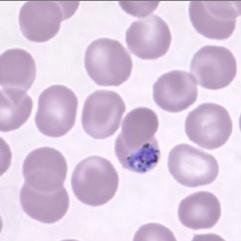Infected: (130, 79, 173, 124)
Uninfected: (155, 122, 205, 169), (84, 162, 136, 207), (38, 108, 86, 156), (102, 8, 149, 55), (143, 22, 186, 72), (90, 116, 138, 160), (147, 173, 193, 218), (45, 4, 90, 50), (181, 172, 222, 220), (15, 70, 58, 115), (70, 45, 114, 88), (1, 178, 41, 222), (107, 82, 150, 122), (191, 19, 229, 62), (48, 205, 92, 240)
